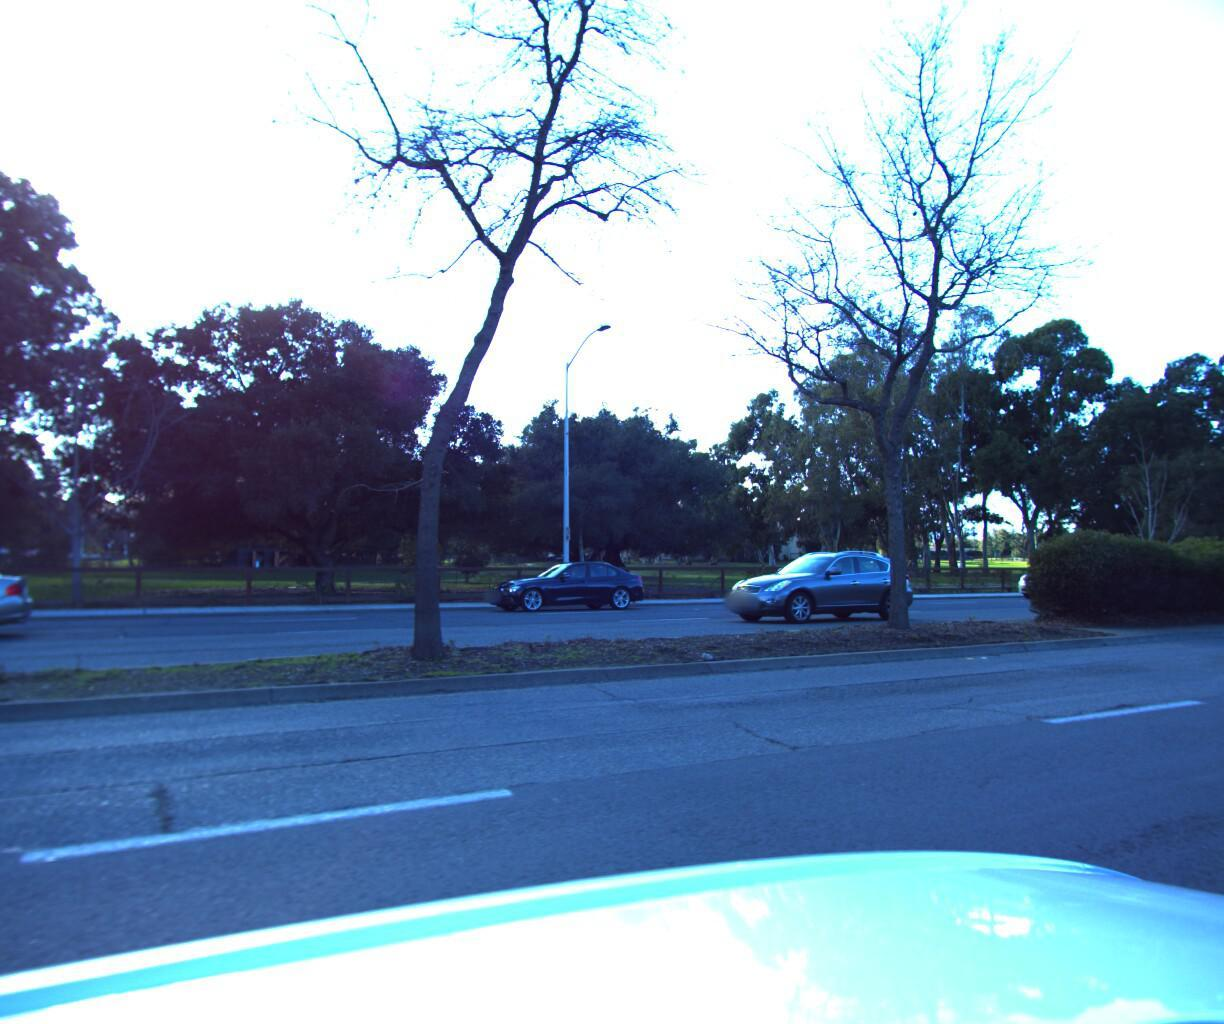car: (713, 543, 921, 621), (476, 555, 649, 611), (0, 550, 35, 654)
